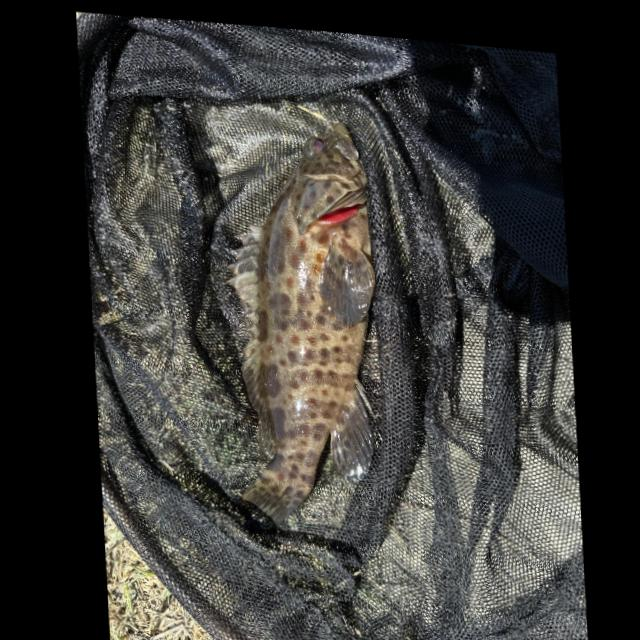Groupers: (216, 109, 389, 530)
